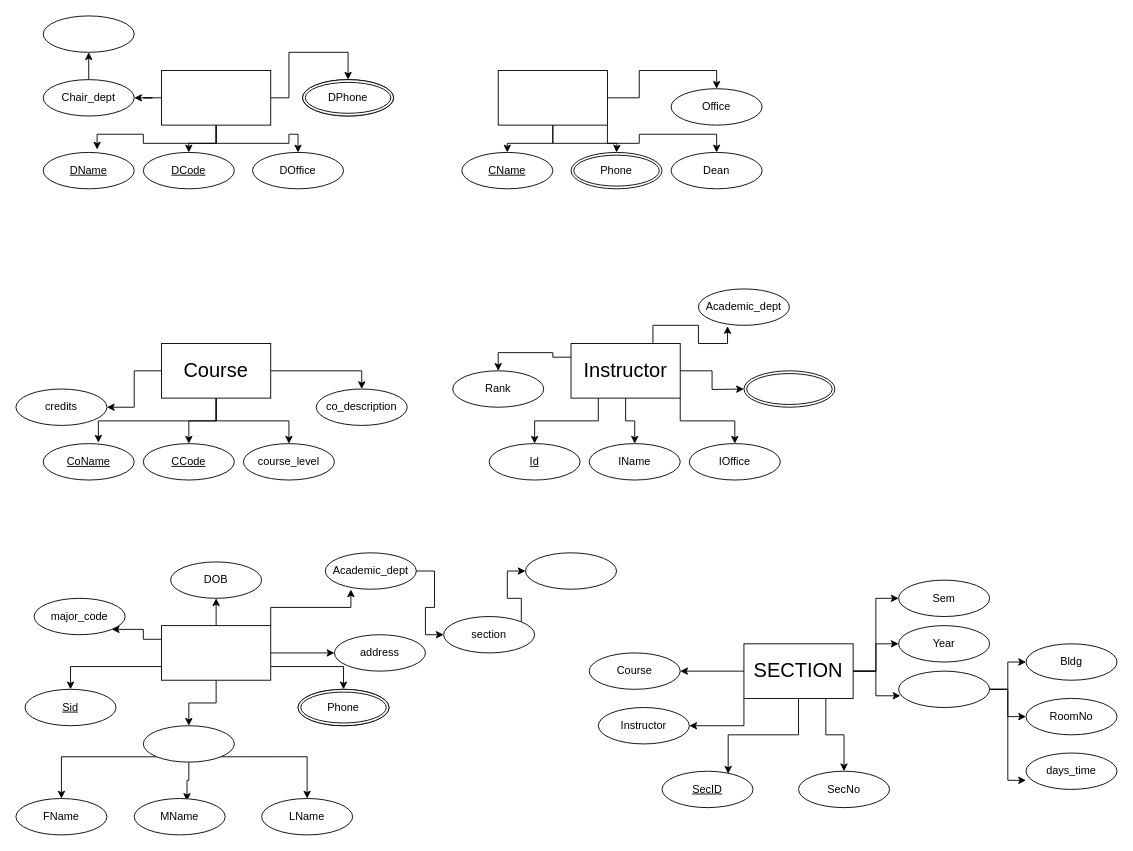
The diagram is 1133 pixels wide and 851 high, and some of its shapes have lost their labels. The centre of each missing label's shape, as x and y in pixels:
"College" belongs at [552,97].
"CRoom" belongs at [944,689].
"CStartDate" belongs at [88,33].
"DEPT" belongs at [216,97].
"grade" belongs at [571,570].
"IPhone" belongs at [789,388].
"SName" belongs at [188,743].
"Student" belongs at [216,652].
